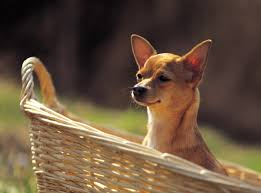chihuahua: (112, 23, 243, 182)
